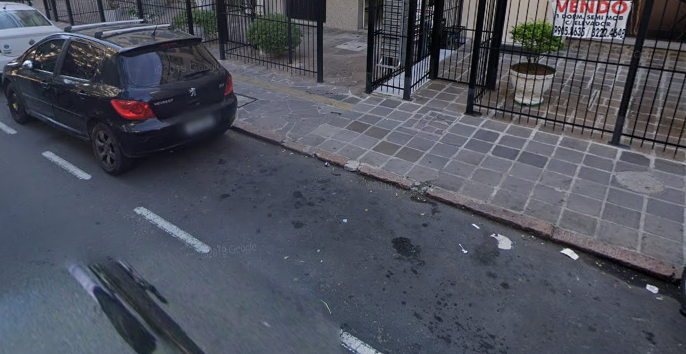vag54: (309, 120, 686, 354)
